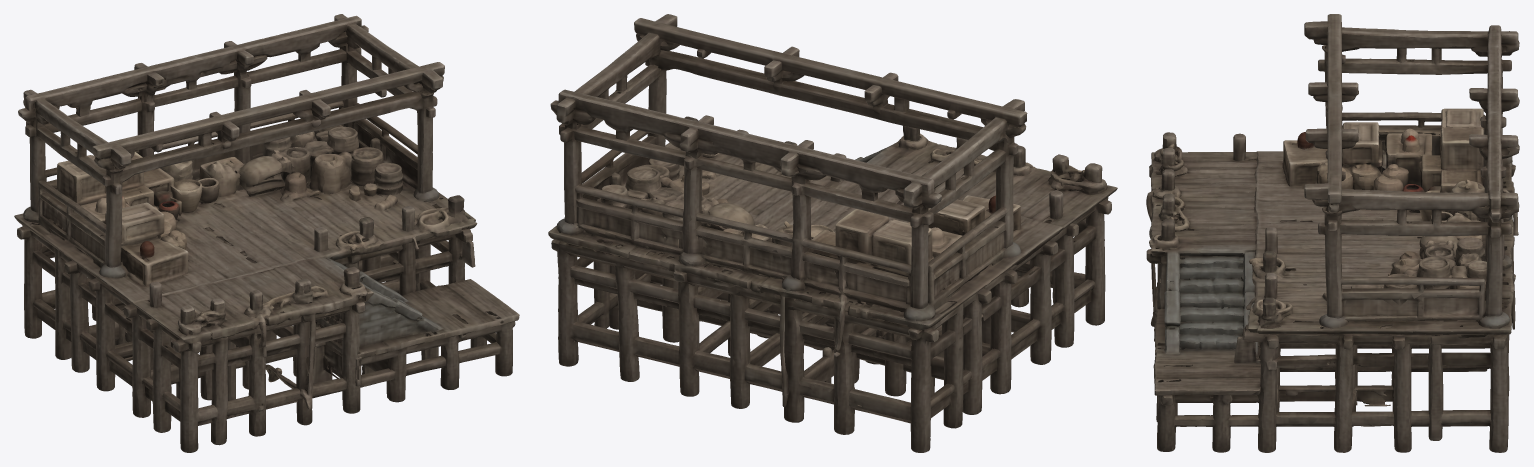
File: wharf-dock.glb
The picture shows the model from 3 angles, left to right: view 1: azimuth 30°, elevation 25°; view 2: azimuth 150°, elevation 25°; view 3: azimuth 270°, elevation 25°; orthographic projection. The views are drawn at different scales.
Parts seen in each view (by area): view 1: world; view 2: world; view 3: world.
Boxes of the visible parts, x1,y1,x2,y2 form: world: [14, 14, 519, 452]; world: [548, 14, 1117, 452]; world: [1146, 14, 1519, 452].
Bounding box in the file's own units: 3.2 × 2.19 × 2.8.
Materials: 1 (1 with a texture image).
